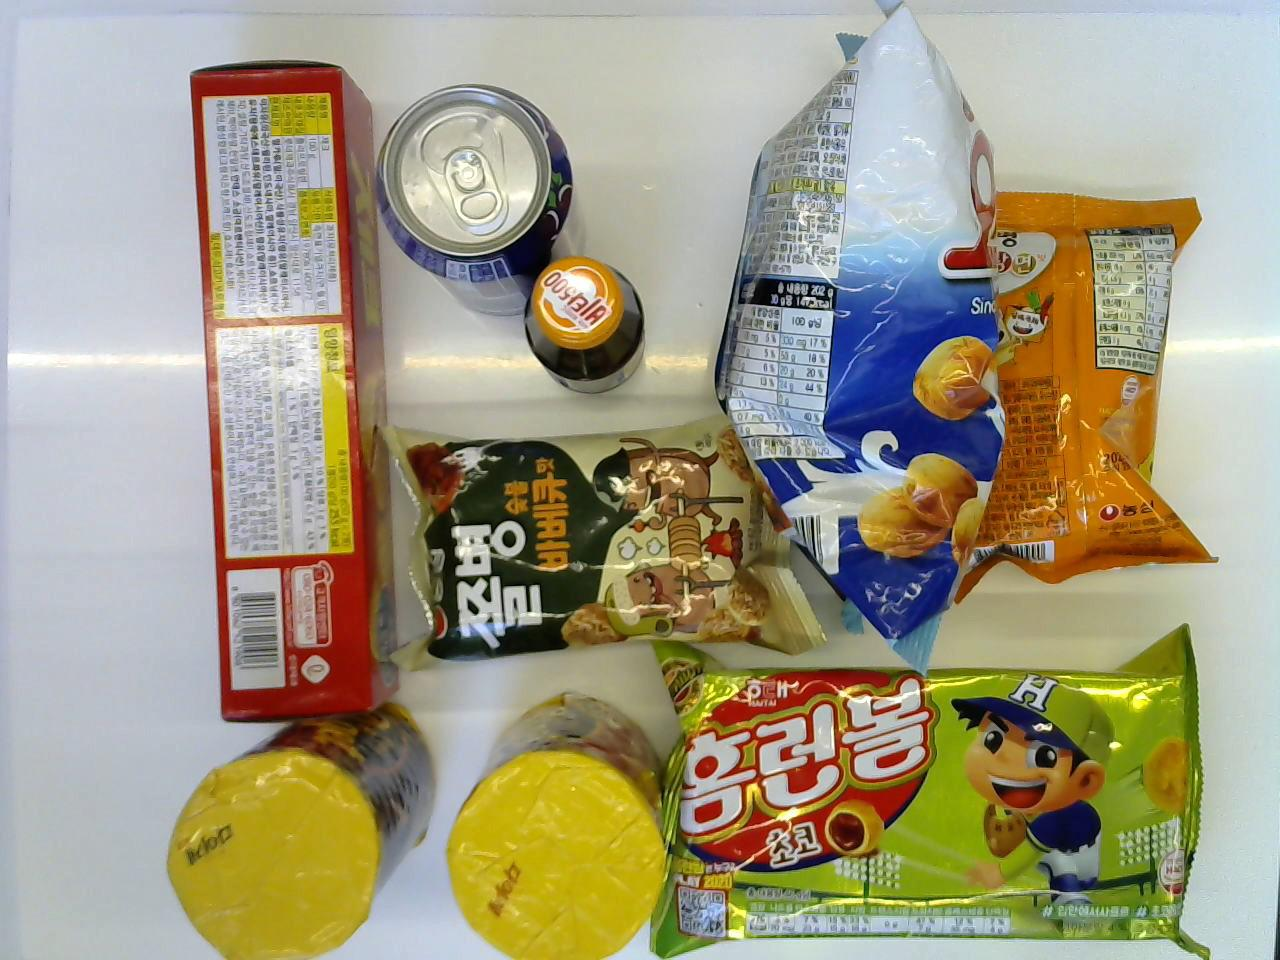diget_choco: (167, 685, 439, 959)
diget_ori: (441, 692, 683, 960)
homerunball: (636, 617, 1224, 958)
jjolbyung_noodle: (944, 182, 1210, 611)
jjolbyung_ori: (385, 402, 825, 680)
squid_peanut: (699, 1, 1013, 678)
vita500: (521, 256, 649, 393)
welchs: (376, 78, 586, 315)
zec: (187, 56, 397, 722)
